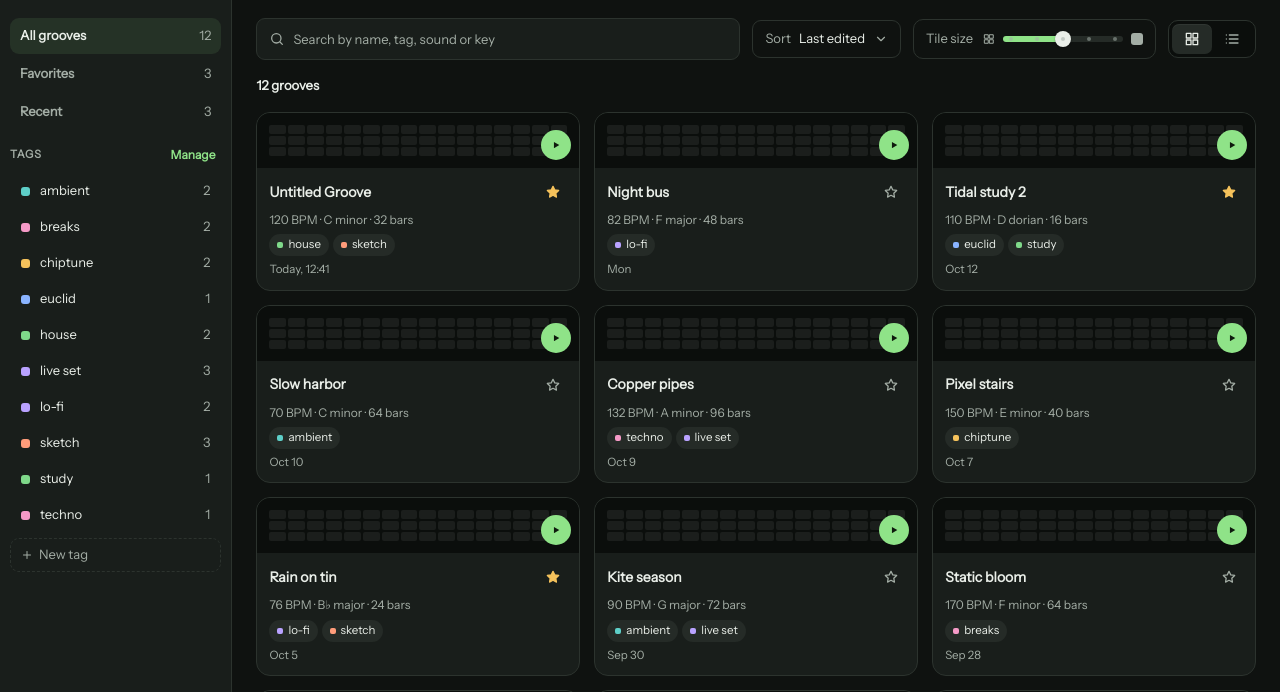
Test: GrooveBrowser › should favorite a groove and write it into the file
The width and height of the screenshot is (1280, 692).
Check: the text "12 grooves" is shown, box 256,77 -> 319,95
Click the button named "Favorite Night bus": [891, 192] box 877,178 -> 905,206
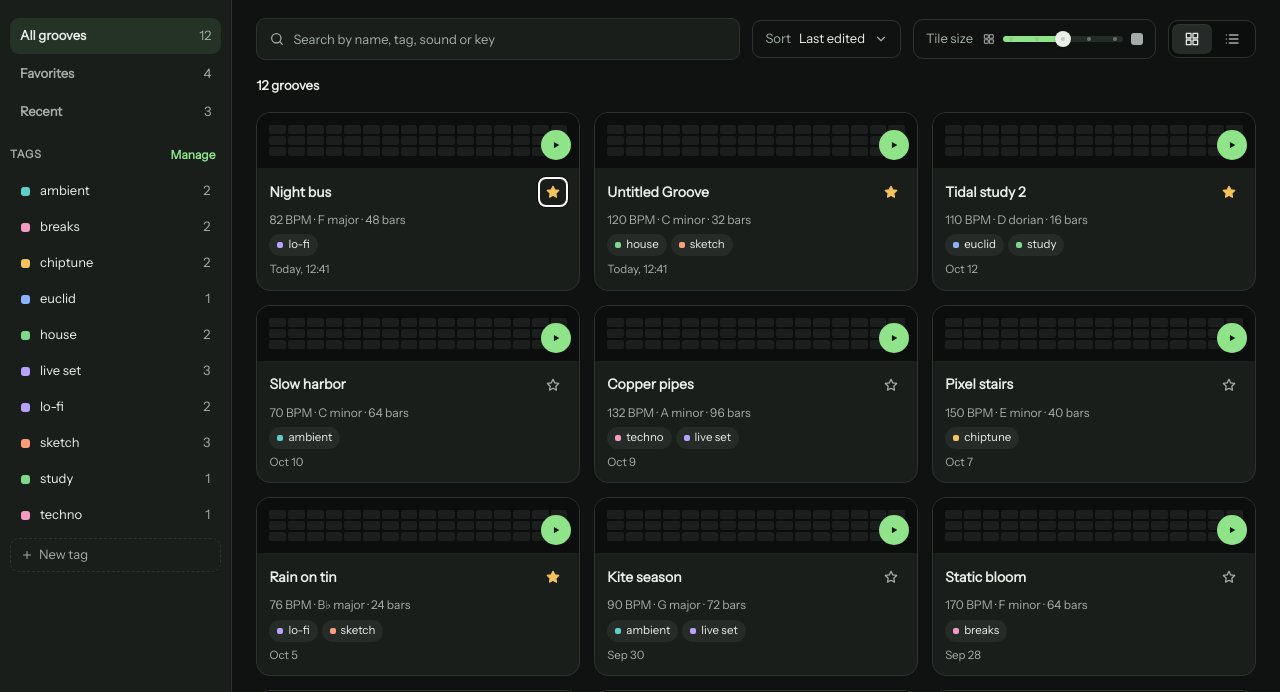
Check: the radio button labelled "Favorites 4" is shown, box 10,56 -> 221,92
